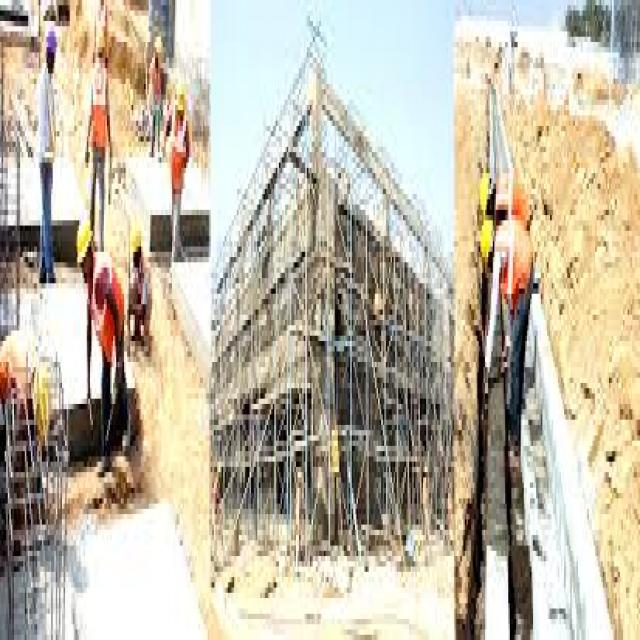Reflective-Jacket: (499, 210, 536, 315)
Safety-Helmet: (32, 357, 52, 446), (73, 205, 96, 268), (479, 215, 496, 273), (128, 210, 146, 262), (477, 163, 493, 220), (44, 15, 60, 58), (174, 79, 188, 115)
